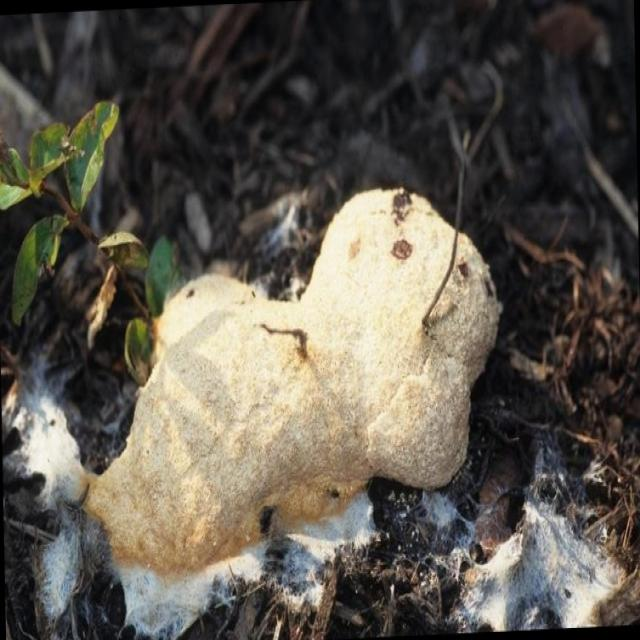Dog_vomit_slime_mold: (60, 204, 502, 567)
